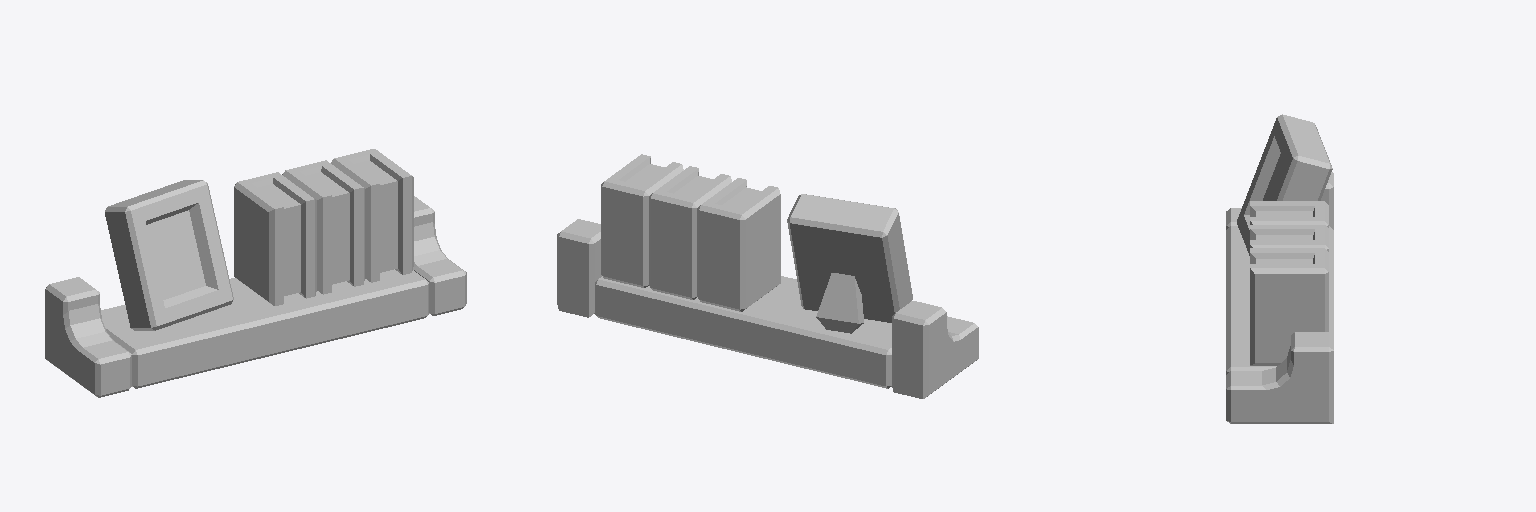
The model's file is shelf_B_large_decorated.obj.
The picture shows the model from 3 angles: view 1: azimuth 30°, elevation 25°; view 2: azimuth 150°, elevation 25°; view 3: azimuth 270°, elevation 25°; orthographic projection.
Visible parts, largest first — view 1: shelf_B_large_decorated_Cube.050; view 2: shelf_B_large_decorated_Cube.050; view 3: shelf_B_large_decorated_Cube.050.
Boxes of the visible parts, box(x1,y1,x2,y2) form: shelf_B_large_decorated_Cube.050: box(45, 149, 466, 397); shelf_B_large_decorated_Cube.050: box(557, 154, 978, 398); shelf_B_large_decorated_Cube.050: box(1226, 114, 1333, 423).
Size of the model in its own units: 2 by 0.8175 by 0.5.